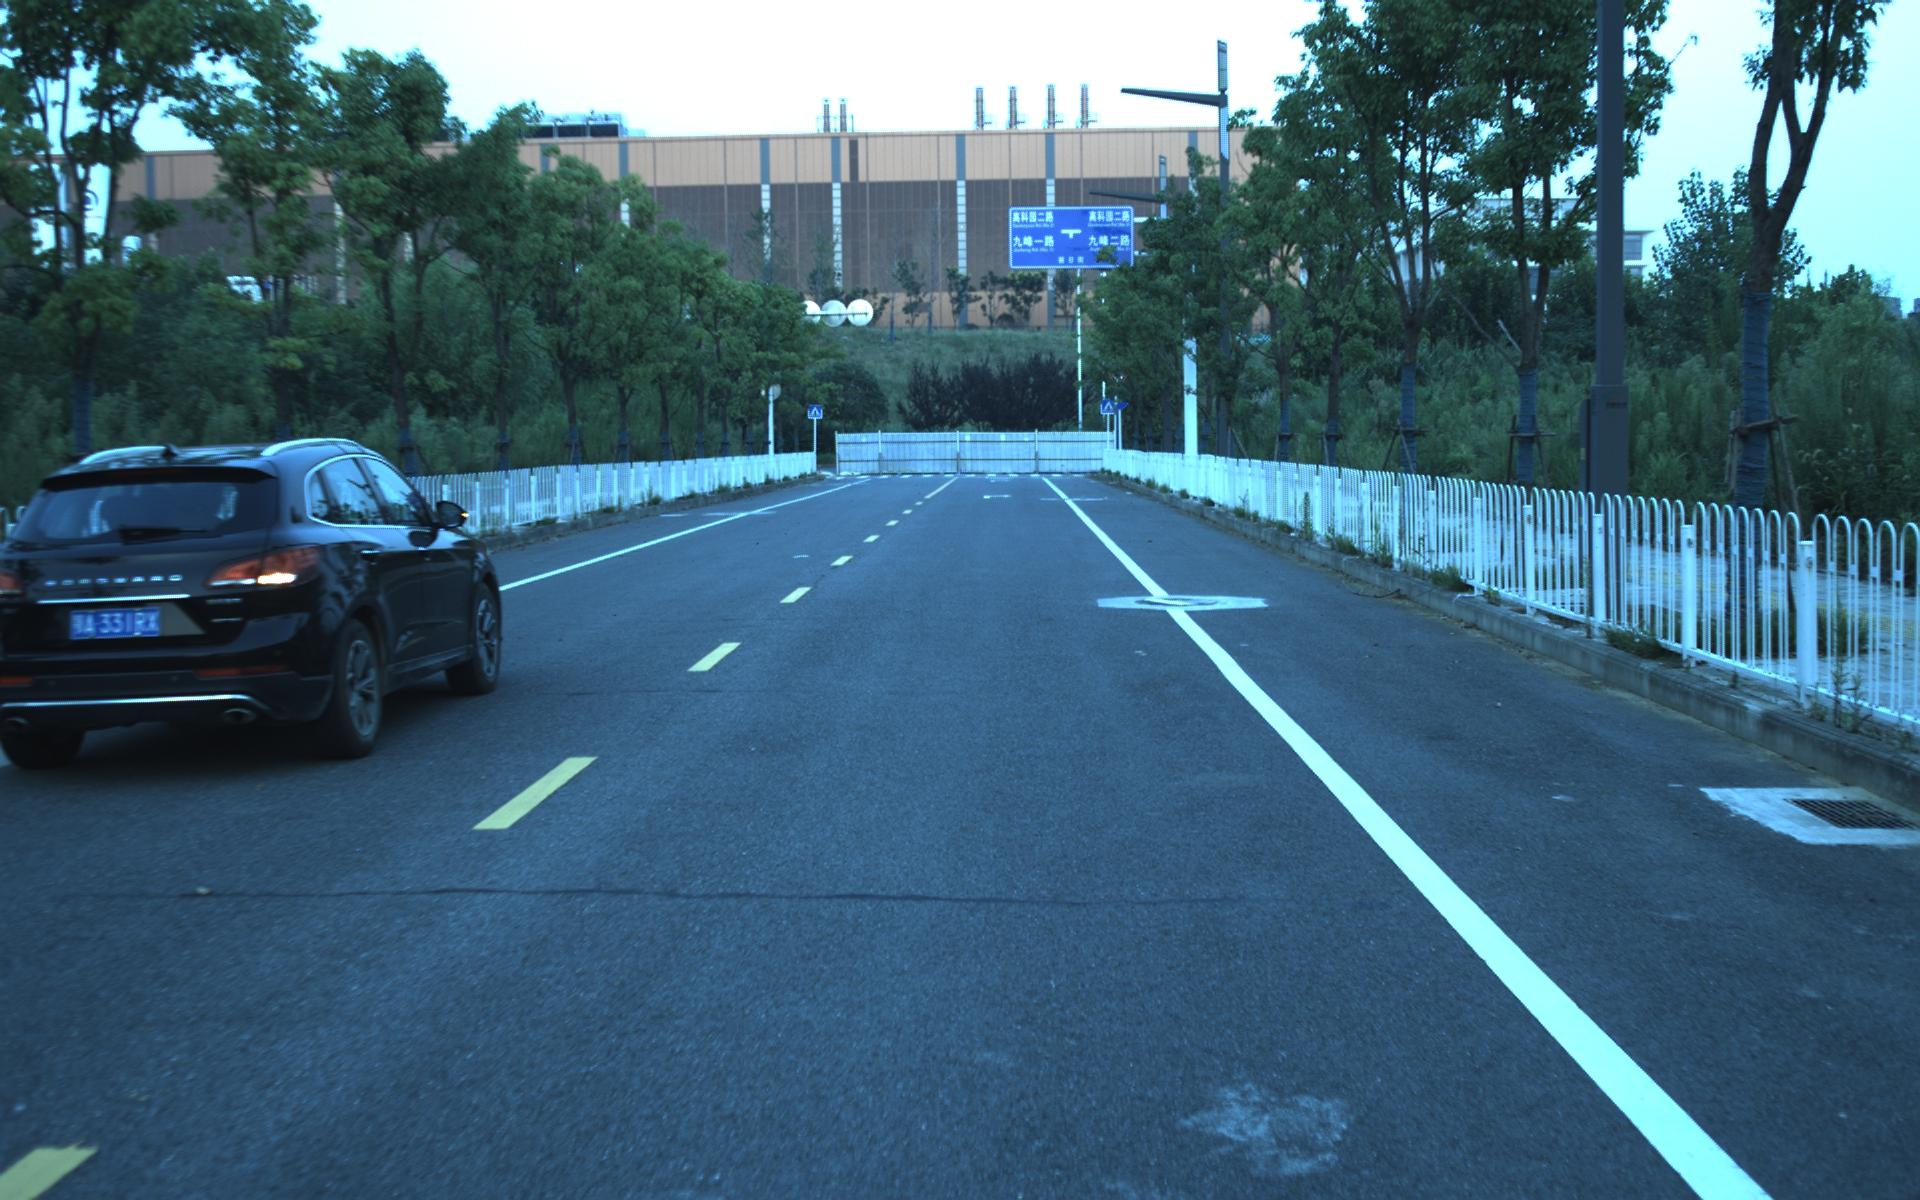Car: (1, 423, 507, 777)
